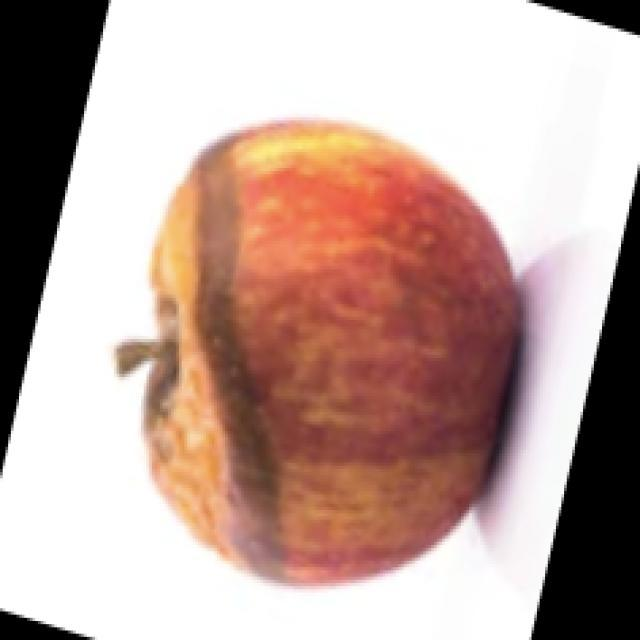Rotten: (145, 125, 498, 595)
